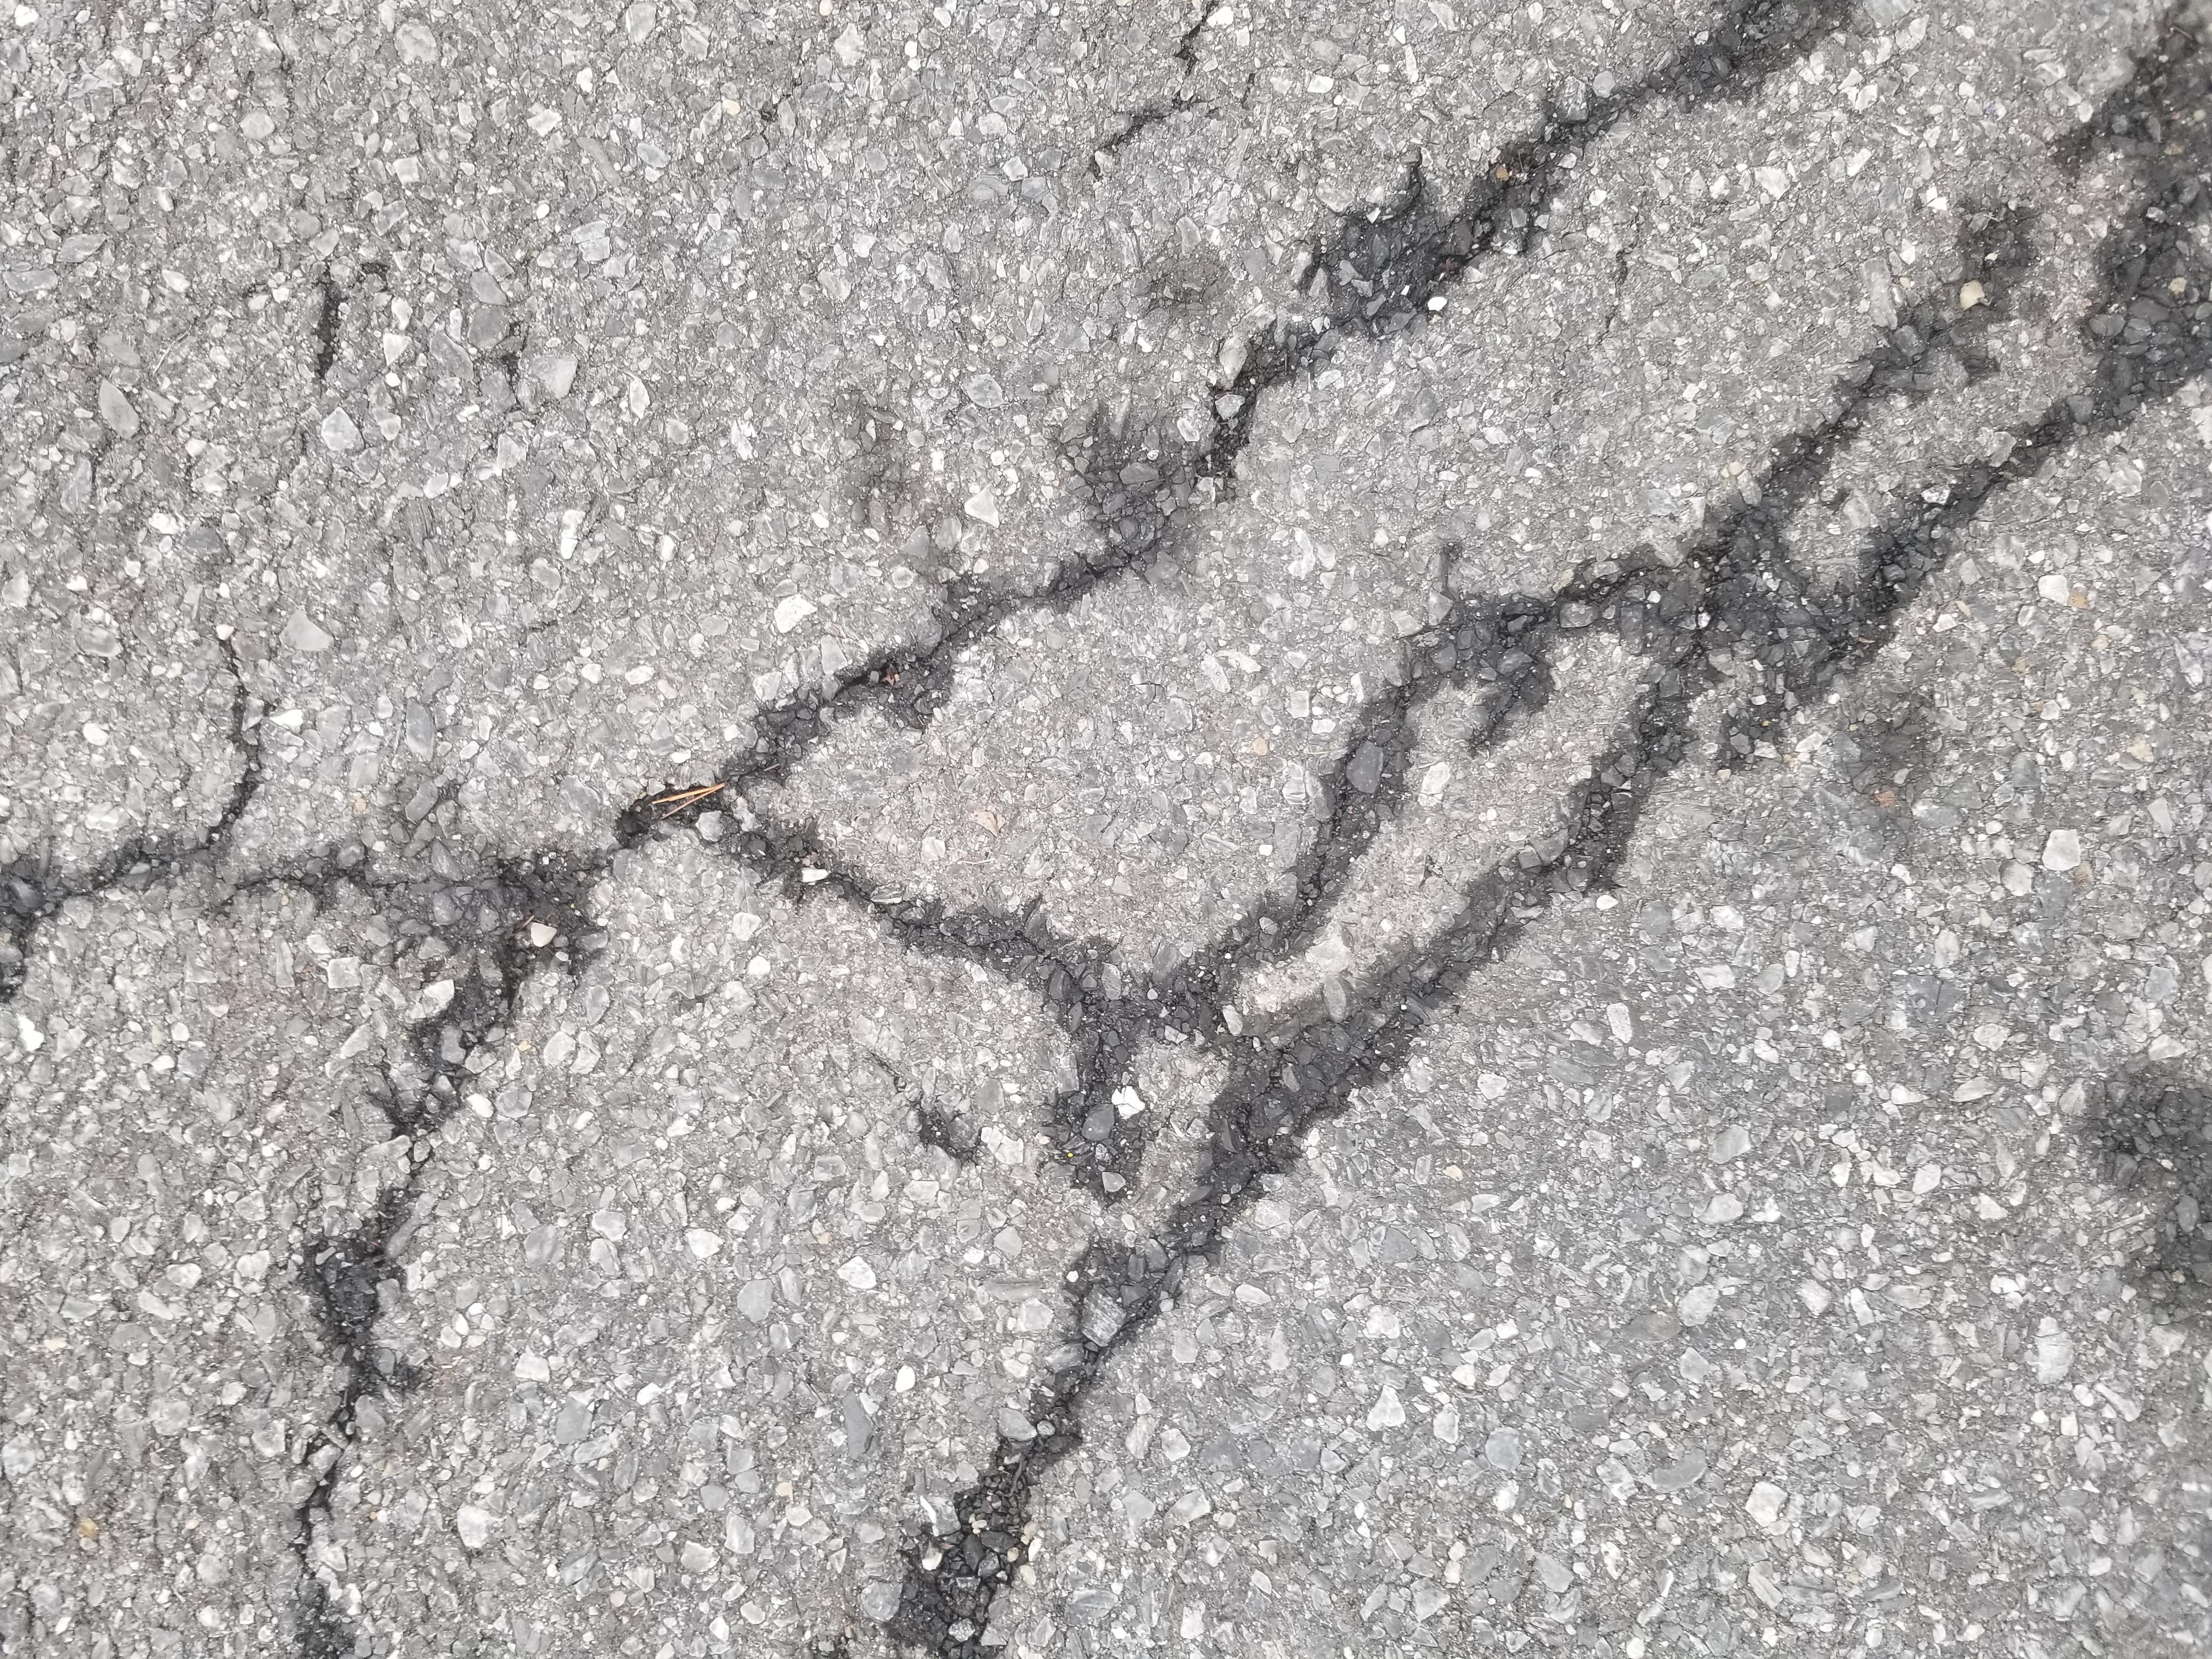alligator-crack: (0, 17, 2212, 1659)
